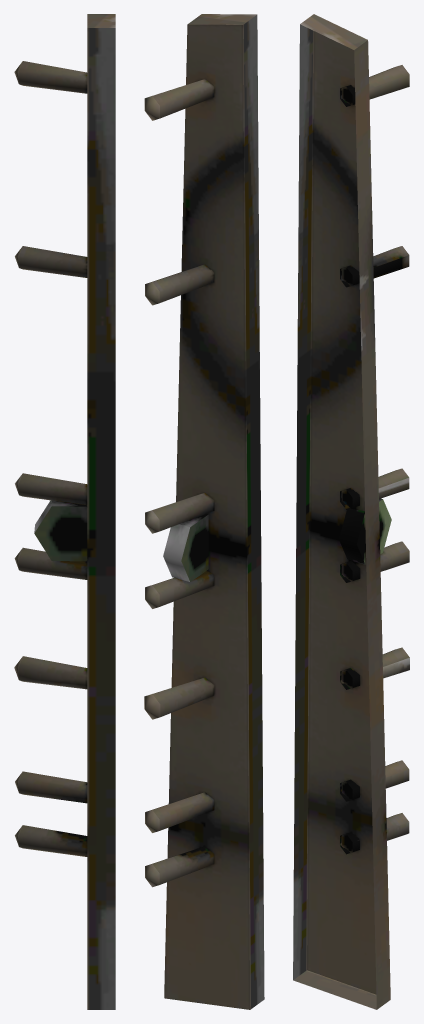
Rendered from props_farm_tools_rack.glb.
The picture shows the model from 3 angles, left to right: view 1: azimuth 90°, elevation 25°; view 2: azimuth 150°, elevation 25°; view 3: azimuth 330°, elevation 25°; orthographic projection. The views are drawn at different scales.
Parts seen in each view (by area): view 1: models/props_farm/tools_rack; view 2: models/props_farm/tools_rack; view 3: models/props_farm/tools_rack.
Boxes of the visible parts, x1=… form: models/props_farm/tools_rack: x1=14, y1=14, x2=115, y2=1009; models/props_farm/tools_rack: x1=144, y1=14, x2=264, y2=1009; models/props_farm/tools_rack: x1=293, y1=14, x2=409, y2=1009.
Size of the model in its own units: 3.9 by 43.01 by 4.01.
Materials: 1 (1 with a texture image).
